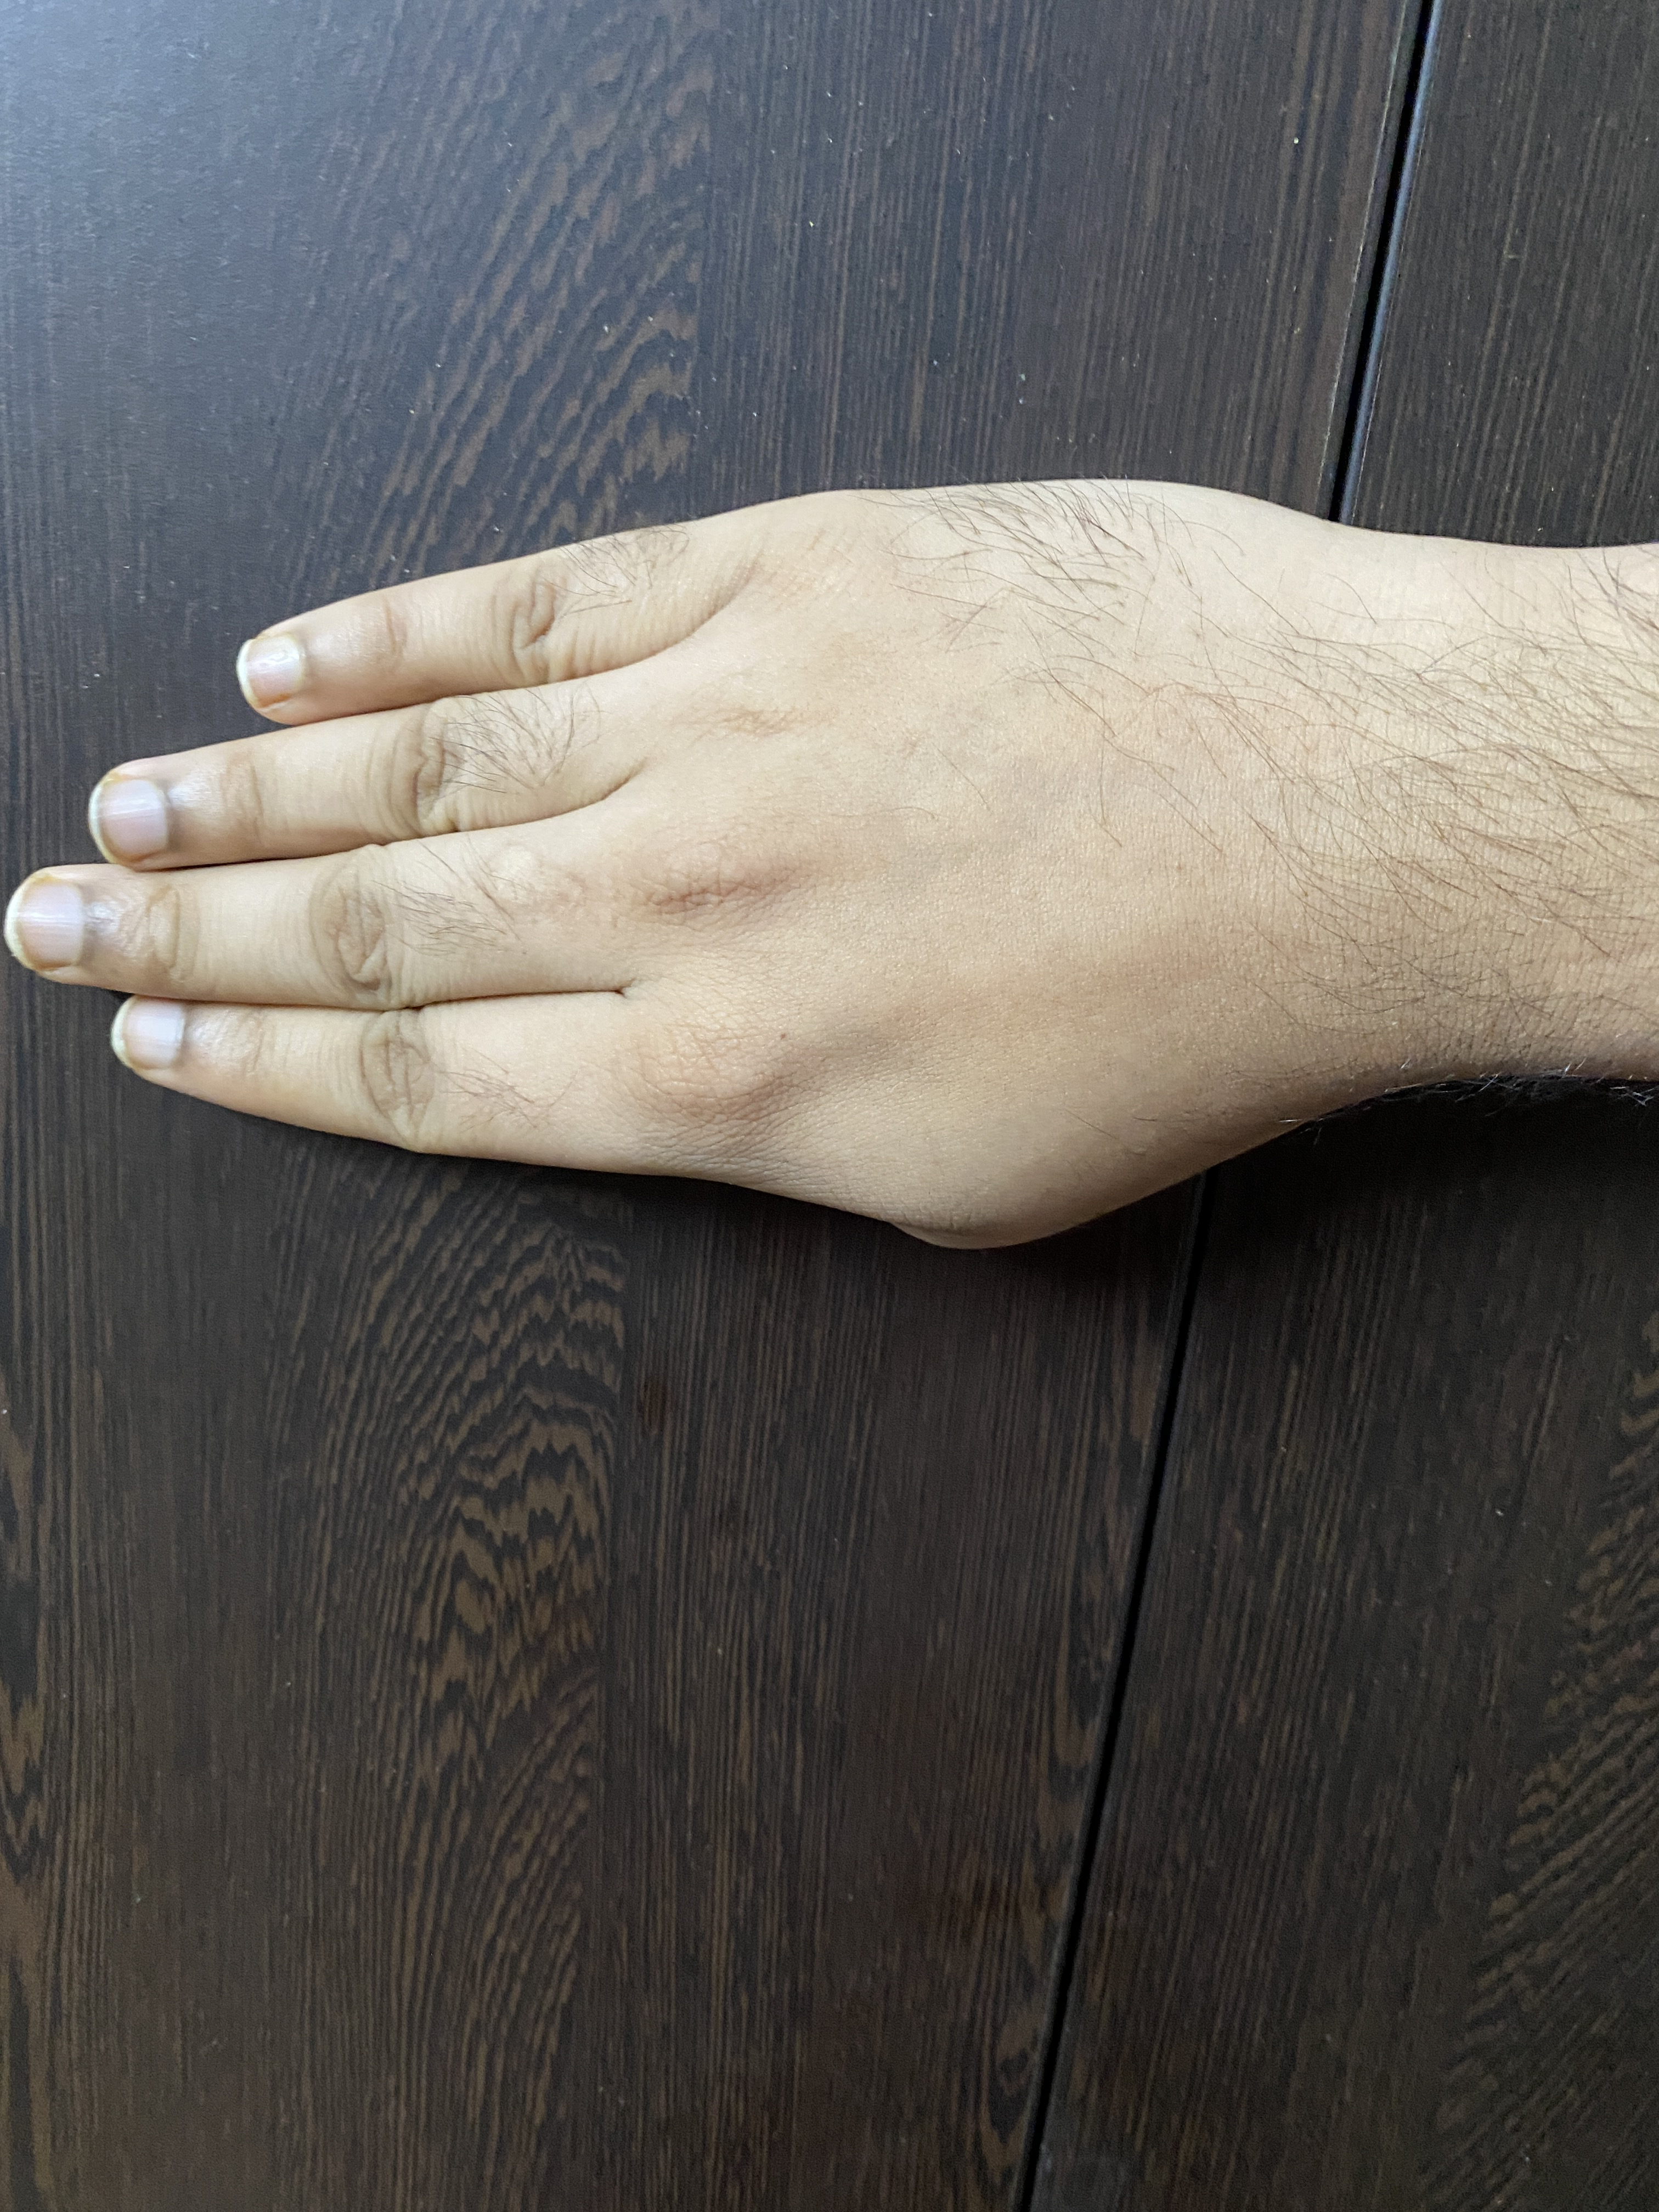right: (7, 277, 1659, 1498)
